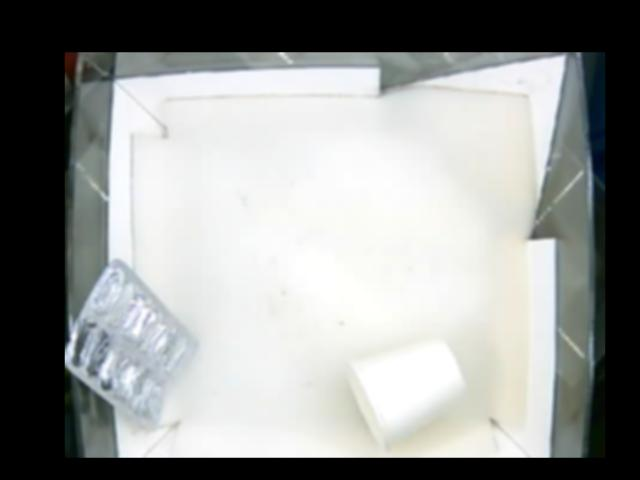Battery: (66, 257, 199, 429)
Cup: (350, 336, 466, 447)
